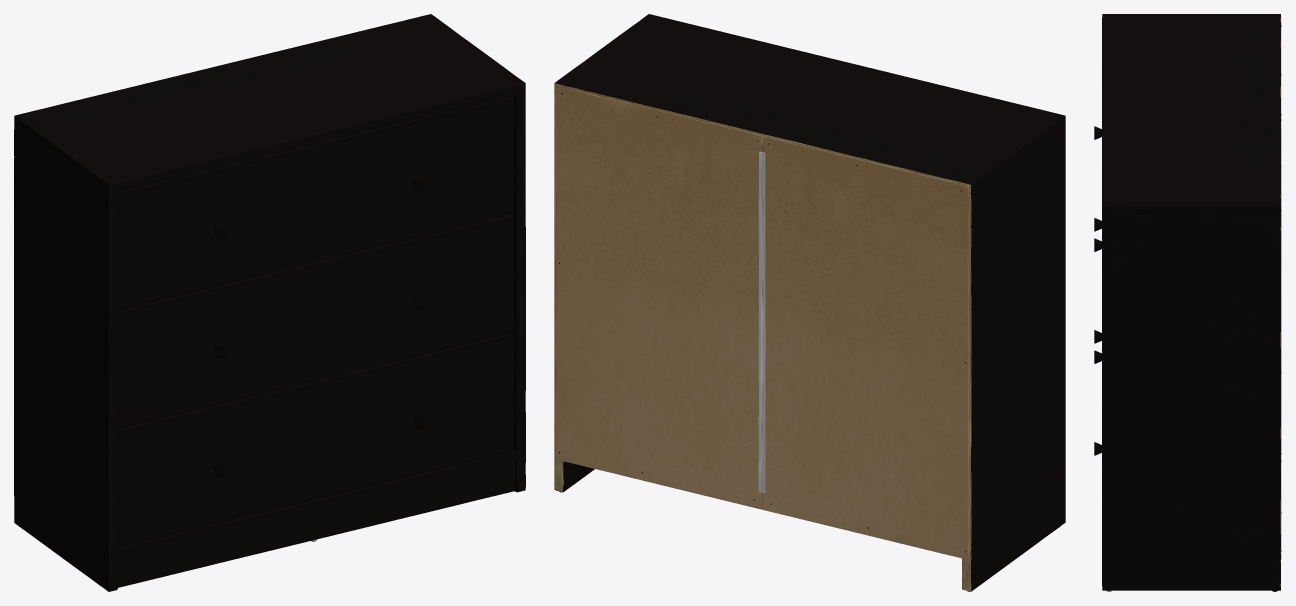
3 views of the same model, side by side, from view 1: azimuth 30°, elevation 25°; view 2: azimuth 150°, elevation 25°; view 3: azimuth 270°, elevation 25° (orthographic). The views are drawn at different scales.
Parts seen in each view (by area): view 1: not_clear_obj_0_v6, not_clear_obj_1_v6; view 2: not_clear_obj_2_v6, not_clear_obj_0_v6, clear_obj_0_100.0_v6; view 3: not_clear_obj_0_v6, not_clear_obj_1_v6, not_clear_obj_2_v6, clear_obj_0_100.0_v6.
Part boxes in pixels (left/top/right/bottom): not_clear_obj_0_v6: left=14, top=14, right=525, bottom=591; not_clear_obj_1_v6: left=19, top=178, right=426, bottom=538; not_clear_obj_2_v6: left=556, top=86, right=968, bottom=559; not_clear_obj_0_v6: left=554, top=14, right=1065, bottom=591; clear_obj_0_100.0_v6: left=758, top=151, right=765, bottom=493; not_clear_obj_0_v6: left=1102, top=14, right=1280, bottom=591; not_clear_obj_1_v6: left=1094, top=25, right=1281, bottom=591; not_clear_obj_2_v6: left=1281, top=17, right=1281, bottom=559; clear_obj_0_100.0_v6: left=1281, top=126, right=1281, bottom=450.
Size of what is drawn, in the model's own units: 72.39 by 67.94 by 29.84.
Materials: 4 (2 with a texture image).
